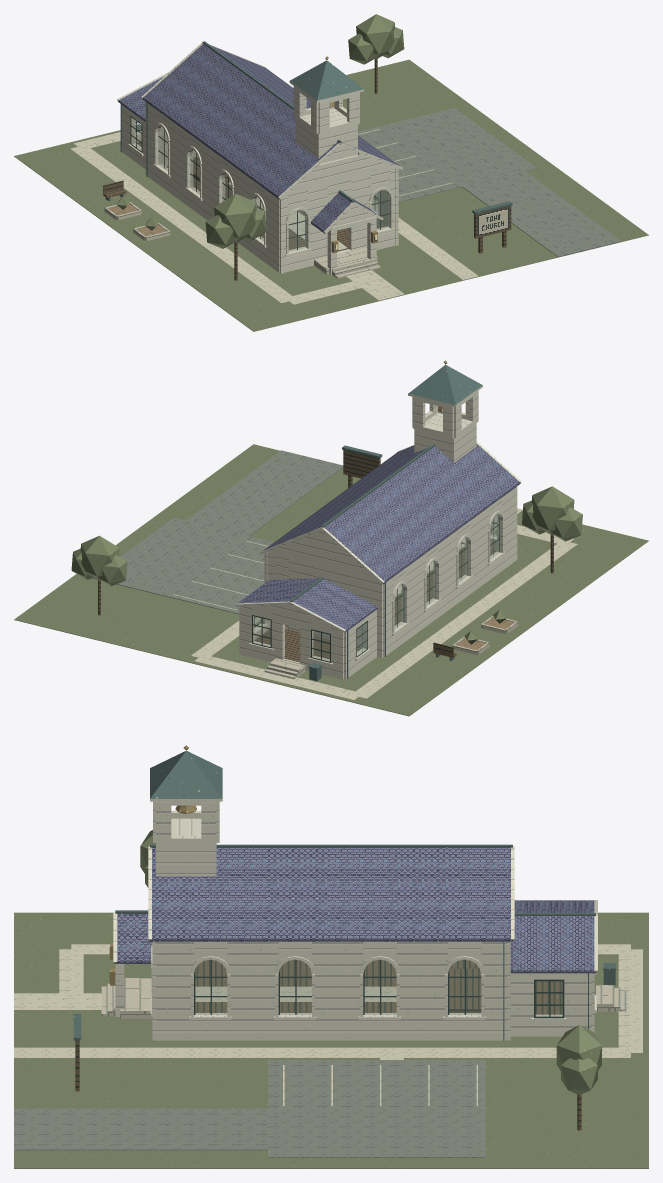
File: country-church.glb
3 renders of one model, top to bottom at view 1: azimuth 30°, elevation 25°; view 2: azimuth 150°, elevation 25°; view 3: azimuth 270°, elevation 25°, orthographic. The views are drawn at different scales.
Parts seen in each view (by area): view 1: lot__ground_grass, nave__wall_siding, nave__roof_slate, lot__ground_paving, paths__ground_paving, front_belfry__wall_siding, church_tree_0__ground_grass, nave__glass_windows, church_tree_1__ground_grass, front_belfry__detail_metal, vestry__wall_siding, nave__wall_stone (+5 smaller); view 2: lot__ground_grass, lot__ground_paving, nave__roof_slate, nave__wall_siding, vestry__wall_siding, paths__ground_paving, front_belfry__wall_siding, vestry__roof_slate, church_tree_0__ground_grass, church_tree_1__ground_grass, front_belfry__detail_metal, vestry__glass_windows (+6 smaller); view 3: lot__ground_grass, nave__roof_slate, lot__ground_paving, nave__wall_siding, paths__ground_paving, nave__glass_windows, vestry__roof_slate, front_belfry__wall_siding, nave__detail_wood, vestry__wall_siding, front_belfry__detail_metal, church_tree_1__ground_grass (+6 smaller).
Boxes of the visible parts, x1,y1,x2,y2 form: lot__ground_grass: [14, 59, 648, 331]; nave__wall_siding: [141, 42, 402, 275]; nave__roof_slate: [142, 44, 399, 233]; lot__ground_paving: [358, 108, 621, 256]; paths__ground_paving: [70, 132, 478, 304]; front_belfry__wall_siding: [289, 81, 364, 163]; church_tree_0__ground_grass: [205, 193, 266, 248]; nave__glass_windows: [158, 126, 389, 251]; church_tree_1__ground_grass: [348, 14, 404, 64]; front_belfry__detail_metal: [290, 60, 363, 100]; vestry__wall_siding: [117, 72, 168, 168]; nave__wall_stone: [314, 247, 380, 278]; lot__ground_grass: [14, 444, 648, 716]; lot__ground_paving: [92, 450, 343, 614]; nave__roof_slate: [263, 444, 520, 583]; nave__wall_siding: [260, 441, 521, 658]; vestry__wall_siding: [235, 601, 376, 679]; paths__ground_paving: [191, 508, 577, 699]; front_belfry__wall_siding: [408, 385, 482, 462]; vestry__roof_slate: [238, 578, 377, 632]; church_tree_0__ground_grass: [522, 486, 582, 541]; church_tree_1__ground_grass: [71, 535, 127, 586]; front_belfry__detail_metal: [408, 364, 482, 404]; vestry__glass_windows: [252, 615, 367, 662]; lot__ground_grass: [14, 912, 648, 1168]; nave__roof_slate: [115, 848, 512, 963]; lot__ground_paving: [14, 1060, 485, 1157]; nave__wall_siding: [113, 846, 514, 1040]; paths__ground_paving: [14, 944, 642, 1059]; nave__glass_windows: [194, 959, 481, 1014]; vestry__roof_slate: [510, 900, 595, 973]; front_belfry__wall_siding: [150, 799, 222, 876]; nave__detail_wood: [195, 959, 481, 1012]; vestry__wall_siding: [510, 900, 597, 1036]; front_belfry__detail_metal: [150, 750, 222, 798]; church_tree_1__ground_grass: [556, 1025, 601, 1095].
Size of what is drawn, in the model's own units: 31.04 by 14.59 by 32.59.
12 materials, 12 textured.
